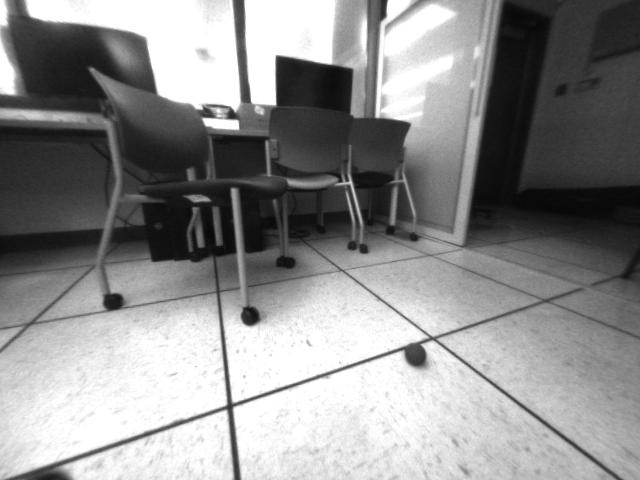dogtoy: (400, 335, 434, 369)
